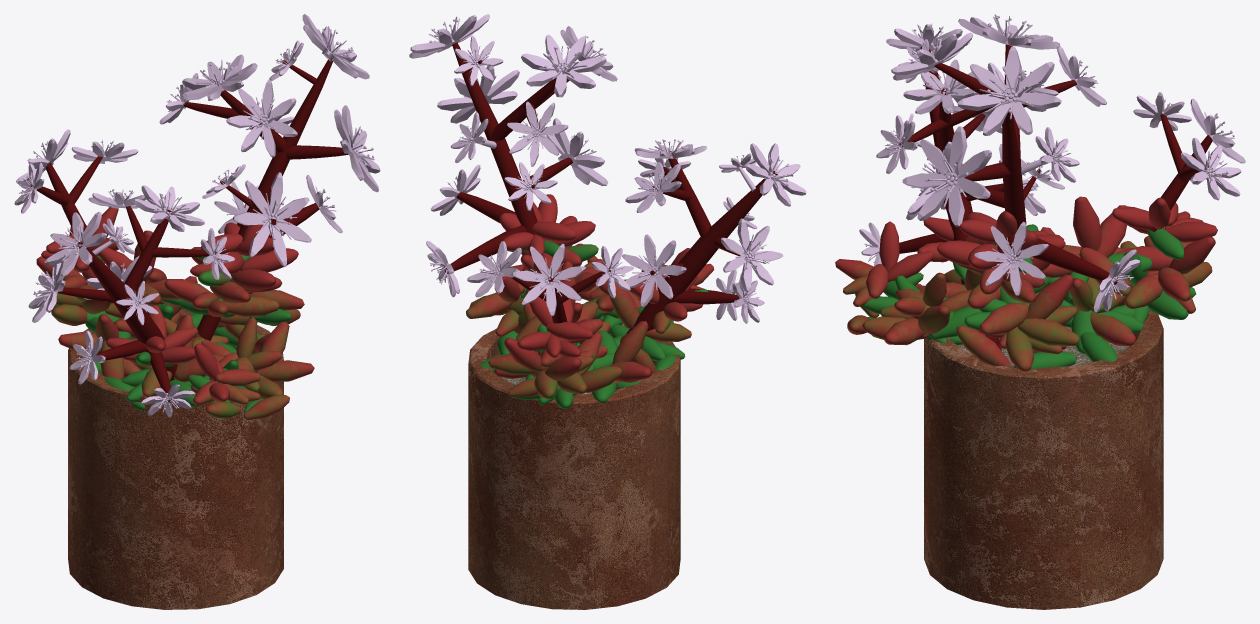
File: small-azure-stonecrop-succulent-in-pot.glb
3 renders of one model, left to right at view 1: azimuth 30°, elevation 25°; view 2: azimuth 150°, elevation 25°; view 3: azimuth 270°, elevation 25°, orthographic. The views are drawn at different scales.
Parts seen in each view (by area): view 1: polySurface940_standardSurface3_0, polySurface940_aiStandardSurface1_0, polySurface940_aiStandardSurface2_0, polySurface940_standardSurface4_0, polySurface940_aiStandardSurface3_0; view 2: polySurface940_standardSurface3_0, polySurface940_aiStandardSurface1_0, polySurface940_aiStandardSurface2_0, polySurface940_standardSurface4_0, polySurface940_aiStandardSurface3_0; view 3: polySurface940_standardSurface3_0, polySurface940_aiStandardSurface2_0, polySurface940_aiStandardSurface1_0, polySurface940_standardSurface4_0, polySurface940_aiStandardSurface3_0.
Boxes of the visible parts, box(x1,y1,x2,y2) form: polySurface940_standardSurface3_0: box(68, 308, 283, 609); polySurface940_aiStandardSurface1_0: box(14, 14, 380, 417); polySurface940_aiStandardSurface2_0: box(36, 205, 314, 419); polySurface940_standardSurface4_0: box(30, 59, 348, 402); polySurface940_aiStandardSurface3_0: box(53, 249, 291, 412); polySurface940_standardSurface3_0: box(468, 323, 680, 609); polySurface940_aiStandardSurface1_0: box(409, 14, 806, 323); polySurface940_aiStandardSurface2_0: box(466, 194, 714, 398); polySurface940_standardSurface4_0: box(444, 42, 777, 333); polySurface940_aiStandardSurface3_0: box(479, 240, 708, 408); polySurface940_standardSurface3_0: box(924, 301, 1163, 609); polySurface940_aiStandardSurface2_0: box(835, 196, 1217, 371); polySurface940_aiStandardSurface1_0: box(859, 14, 1245, 312); polySurface940_standardSurface4_0: box(899, 44, 1212, 350); polySurface940_aiStandardSurface3_0: box(863, 224, 1195, 368).
Bounding box in the file's own units: 0.0237 × 0.0338 × 0.0218.
7 materials, 5 textured.
